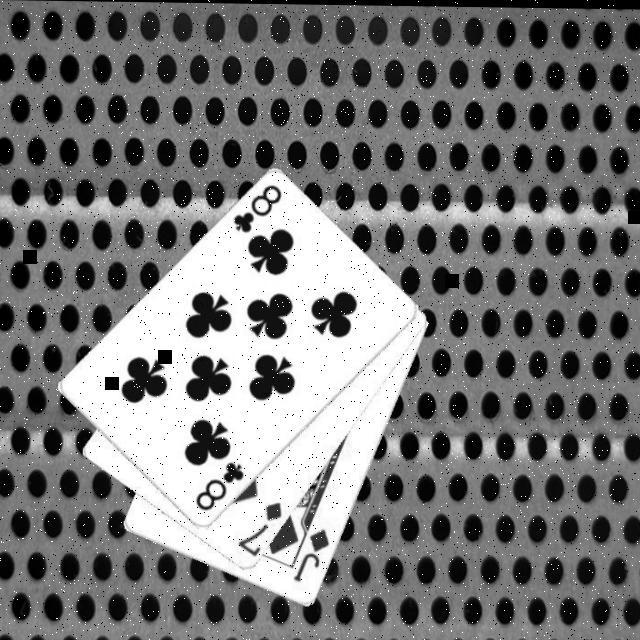7D: (233, 496, 284, 557)
8C: (190, 456, 247, 514), (228, 180, 284, 235)
JD: (290, 524, 332, 584)
